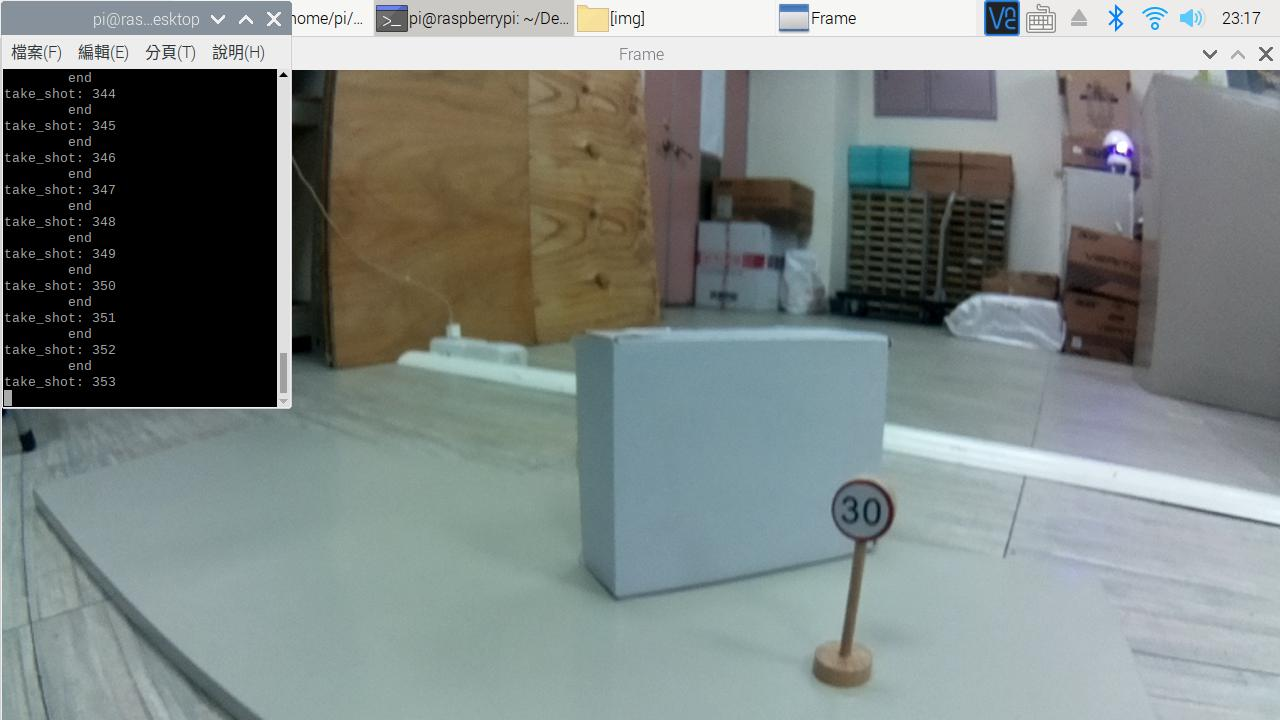Speed30: (820, 469, 916, 552)
